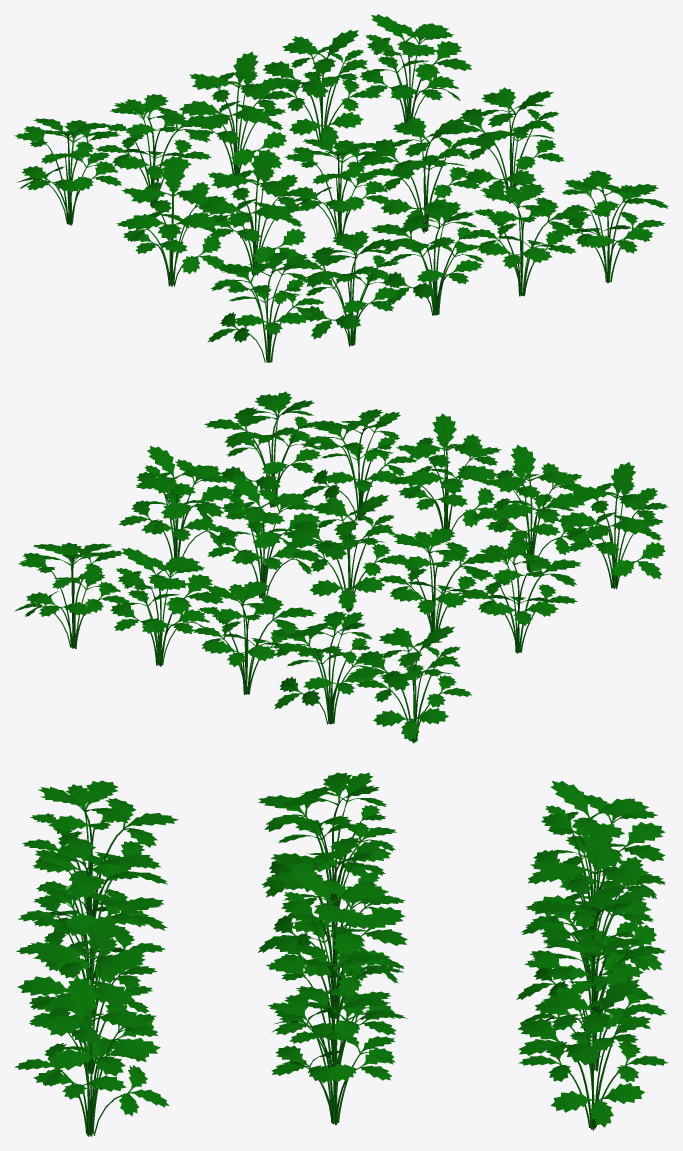
File: Strawberry_lvl4.fbx
3 views of the same model, one above another, from view 1: azimuth 30°, elevation 25°; view 2: azimuth 150°, elevation 25°; view 3: azimuth 270°, elevation 25° (orthographic). The views are drawn at different scales.
Visible parts, largest first — view 1: Strawberry_lvl4_LOD0; view 2: Strawberry_lvl4_LOD0; view 3: Strawberry_lvl4_LOD0.
Part boxes in pixels (bbox=[...]): Strawberry_lvl4_LOD0: bbox=[14, 14, 668, 362]; Strawberry_lvl4_LOD0: bbox=[15, 391, 668, 743]; Strawberry_lvl4_LOD0: bbox=[14, 772, 668, 1136].
Size of what is drawn, in the model's own units: 109 by 110 by 29.03.
